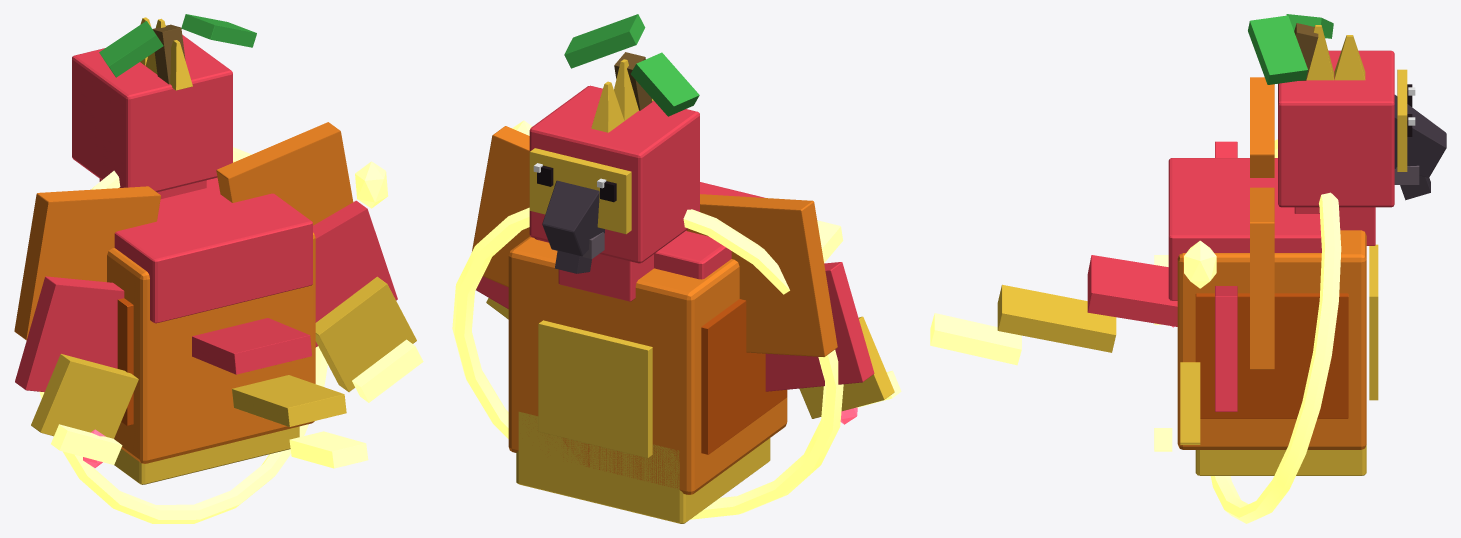
File: mangowing.glb
3 renders of one model, left to right at view 1: azimuth 30°, elevation 25°; view 2: azimuth 150°, elevation 25°; view 3: azimuth 270°, elevation 25°, orthographic. The views are drawn at different scales.
Parts seen in each view (by area): view 1: body, wing.R, head, wing.L, tail; view 2: body, head, wing.R, wing.L, tail; view 3: body, head, tail, wing.L, wing.R.
Boxes of the visible parts, x1,y1,x2,y2 form: body: (39, 147, 388, 523); wing.R: (14, 186, 160, 464); head: (72, 14, 256, 192); wing.L: (216, 122, 423, 402); tail: (192, 318, 368, 468); body: (452, 120, 857, 523); head: (529, 14, 699, 273); wing.R: (686, 194, 901, 418); wing.L: (472, 126, 529, 319); tail: (817, 220, 843, 262); body: (1168, 139, 1378, 523); head: (1248, 14, 1446, 207); tail: (930, 255, 1177, 365); wing.L: (1154, 187, 1274, 451); wing.R: (1154, 77, 1274, 324).
Size of the model in its own units: 0.8219 by 1 by 0.9561.
